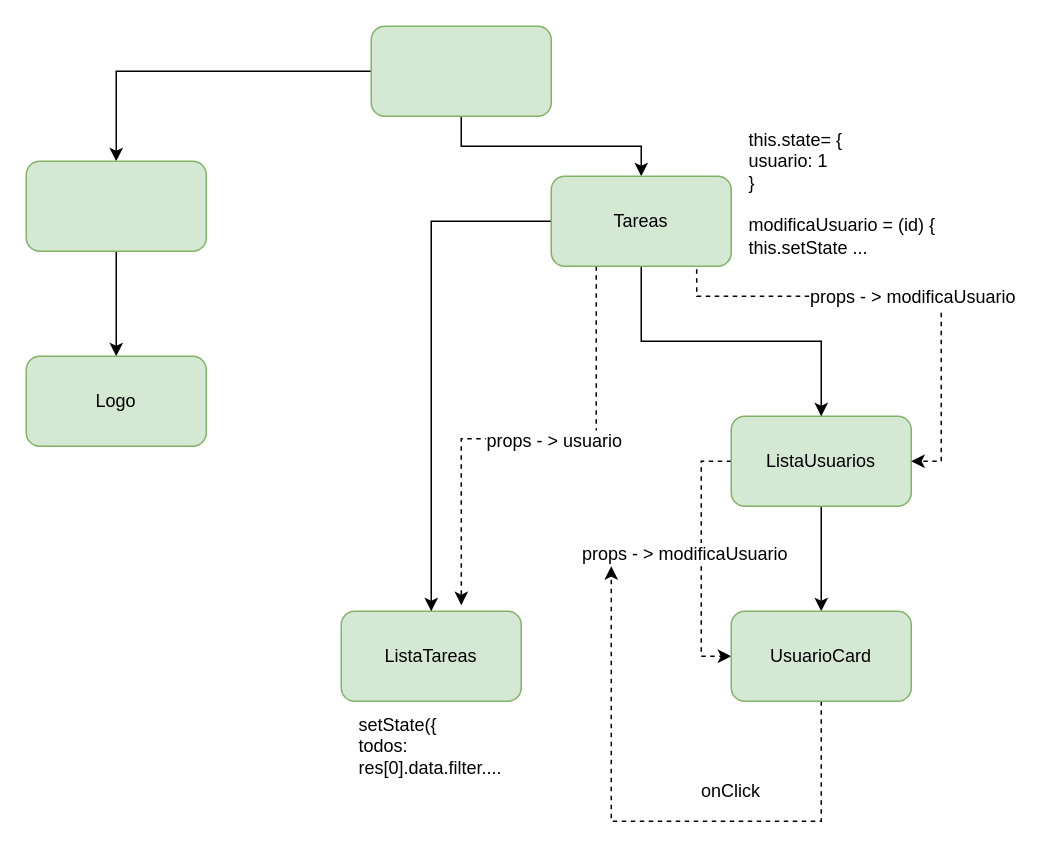
This 1043x860 diagram has some shape labels left out. Each missing label, with the centre of its shape:
"App.js" goes at point (460, 70).
"Header" goes at point (115, 205).
